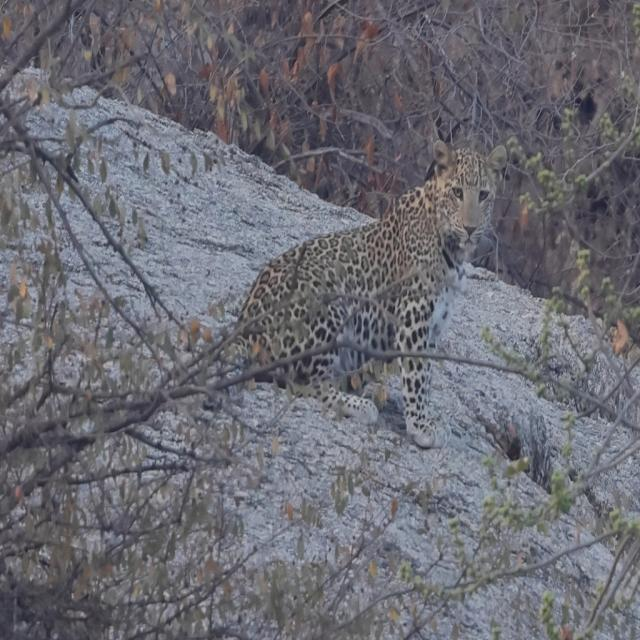Leopard: (226, 144, 510, 452)
